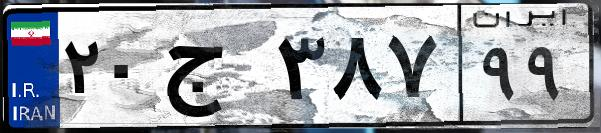0: (110, 28, 158, 98)
2: (57, 26, 110, 100)
3: (270, 28, 330, 110)
7: (385, 28, 445, 110)
8: (330, 28, 385, 110)
9: (475, 38, 525, 113), (525, 38, 570, 115)
ج: (158, 20, 270, 120)
